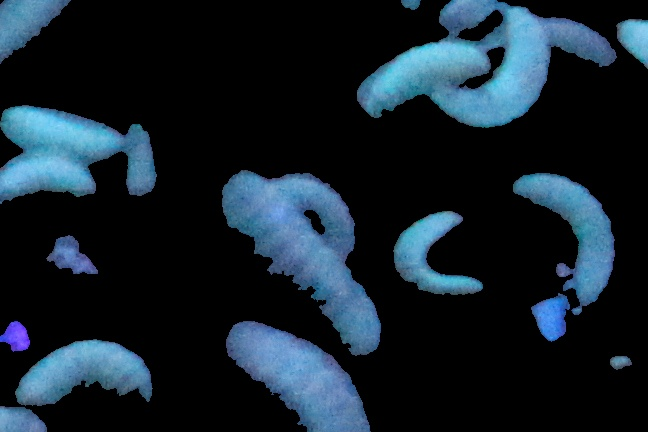larvae: (224, 171, 368, 334), (225, 325, 379, 432), (516, 166, 624, 318), (443, 11, 547, 127), (361, 36, 488, 112), (15, 338, 151, 406), (390, 201, 485, 293), (1, 103, 120, 160), (1, 1, 72, 71), (548, 4, 613, 67), (299, 169, 348, 245), (1, 160, 93, 199), (122, 125, 159, 193)
